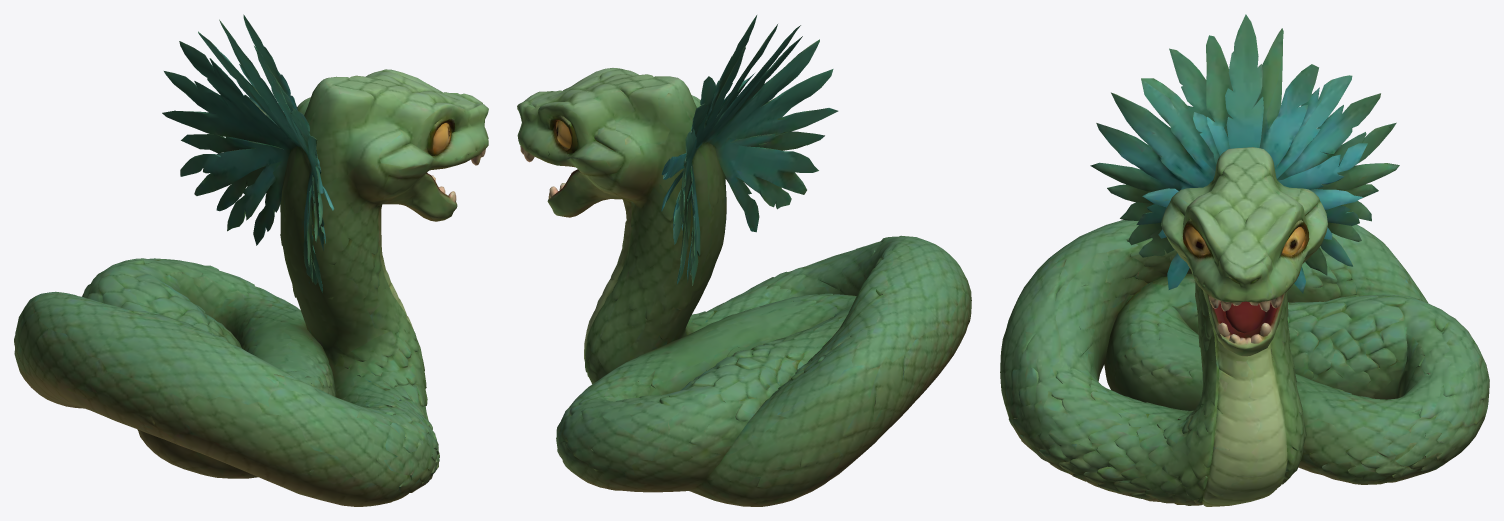
File: featherSerpent.glb
3 views of the same model, side by side, from view 1: azimuth 30°, elevation 25°; view 2: azimuth 150°, elevation 25°; view 3: azimuth 270°, elevation 25° (orthographic).
Visible parts, largest first — view 1: geometry_0; view 2: geometry_0; view 3: geometry_0.
Boxes of the visible parts, box(x1,y1,x2,y2) form: geometry_0: box(14, 14, 488, 506); geometry_0: box(517, 15, 971, 506); geometry_0: box(1000, 14, 1489, 506).
Bounding box in the file's own units: 0.9762 × 0.9797 × 0.9971.
1 material, 1 textured.
